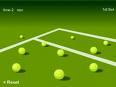tennis ball: (53, 69, 64, 80), (10, 63, 21, 73), (88, 63, 98, 72), (56, 48, 65, 57), (89, 46, 98, 55), (17, 47, 26, 55), (40, 41, 47, 47), (102, 40, 109, 46), (69, 35, 75, 40), (19, 34, 23, 39)
